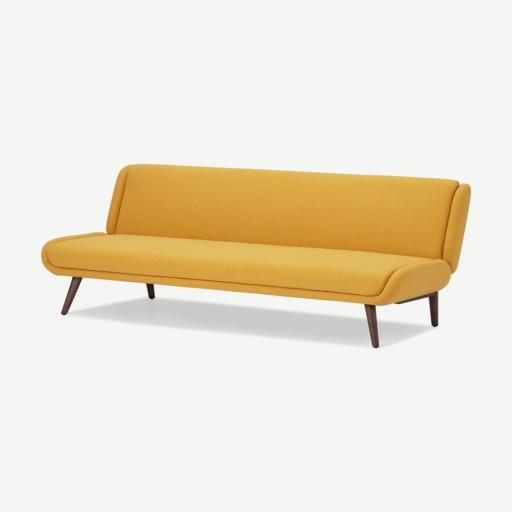back_cushion: (108, 165, 458, 258)
legs: (396, 291, 438, 326), (61, 277, 81, 315), (365, 304, 377, 347), (147, 284, 154, 299)
seat_cushion: (43, 234, 439, 296)
two-seater: (0, 0, 511, 512)
